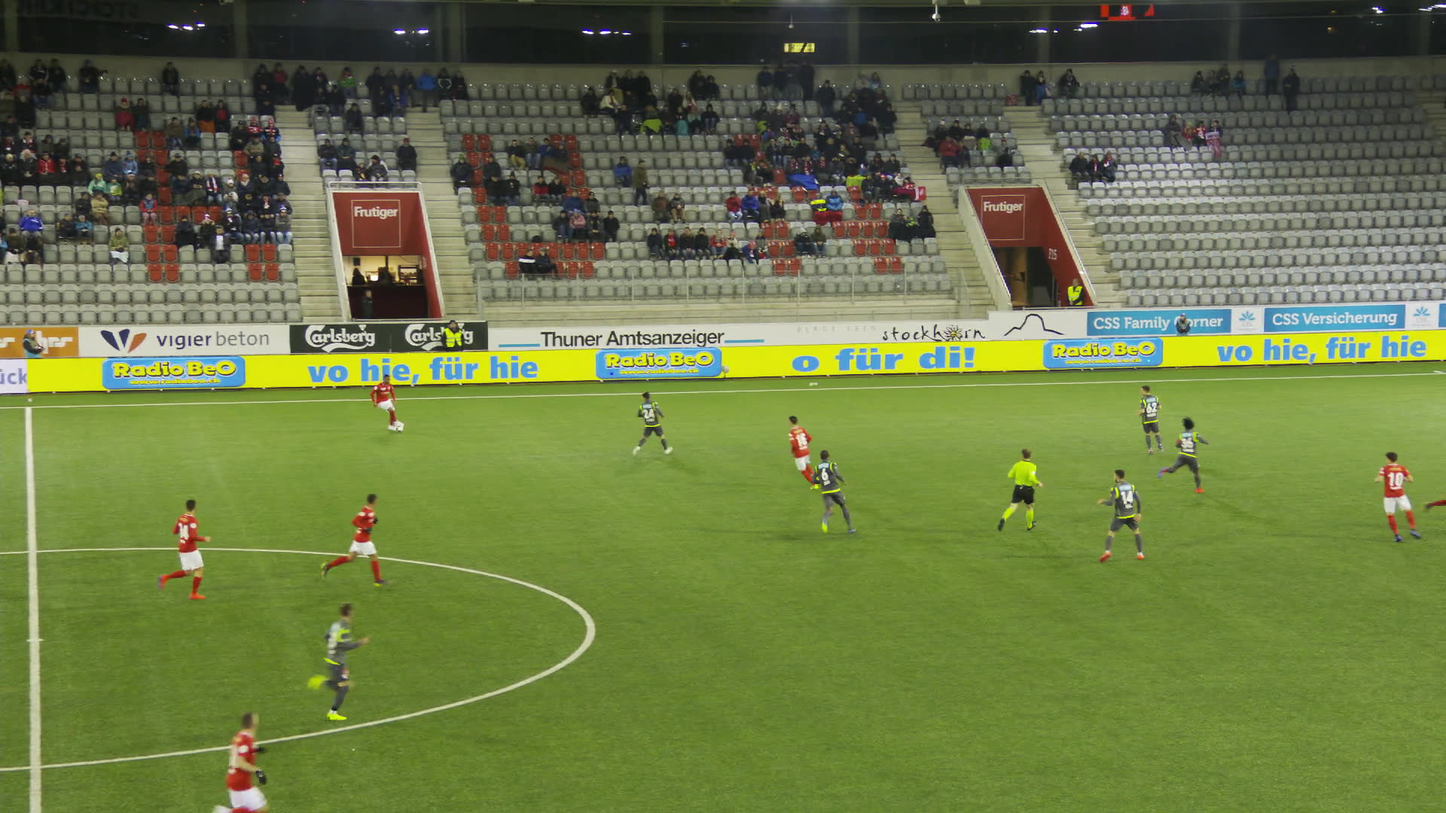ball: (392, 422, 404, 434)
player: (292, 598, 368, 720), (319, 490, 389, 589), (206, 708, 270, 812), (155, 497, 213, 601), (1092, 465, 1148, 564), (1369, 449, 1420, 541), (1151, 416, 1205, 496), (808, 448, 853, 542), (629, 391, 673, 458), (786, 414, 819, 486), (369, 373, 405, 432), (1136, 383, 1164, 455), (1420, 487, 1445, 517)
referee: (996, 447, 1042, 537)
